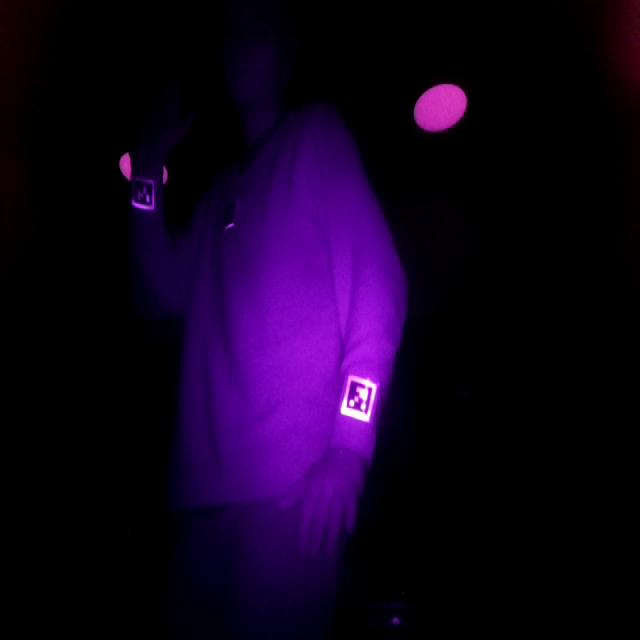Apriltags: (339, 375, 376, 422), (130, 176, 156, 212)
